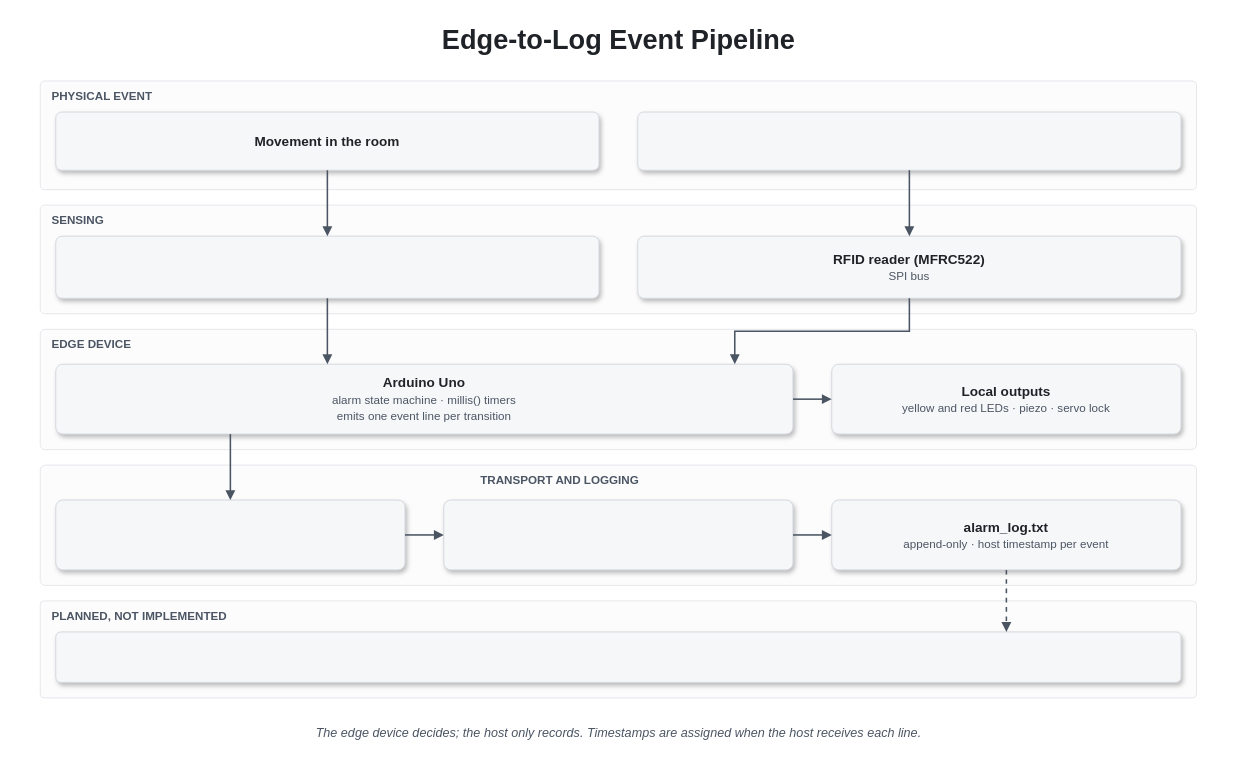
Some shapes in this 1236 by 759 pixel diagram are drawn without their labels. Here are the shapes that lost their labels. From the top down, the centre of each, then its label:
At (x=910, y=142): "RFID tag presented".
At (x=328, y=268): "PIR motion sensor digital input".
At (x=231, y=536): "USB serial 9600 baud EVENT: value".
At (x=619, y=536): "Python receiver reads lines · matches event keywords".
At (x=619, y=658): "Web server with PHP and MySQL, and a dashboard for remote monitoring".
